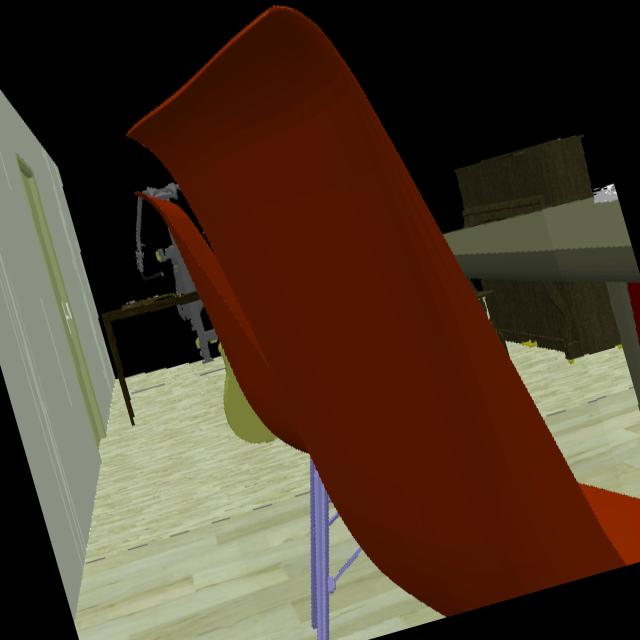chair: (129, 8, 636, 617)
table: (444, 192, 640, 411)
